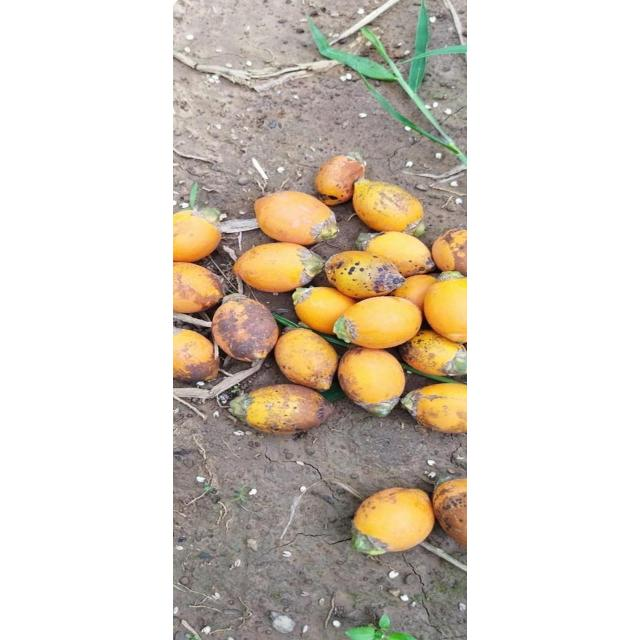good: (351, 487, 435, 555), (229, 385, 335, 435), (337, 346, 407, 414), (252, 192, 340, 246), (332, 296, 421, 348), (212, 295, 280, 363), (234, 243, 324, 293), (273, 328, 339, 390), (351, 179, 425, 233), (324, 251, 406, 299), (355, 232, 435, 278), (398, 328, 468, 378), (399, 382, 466, 434), (292, 286, 356, 336), (423, 275, 467, 343), (314, 154, 366, 206), (174, 262, 224, 314), (174, 326, 218, 384), (173, 212, 221, 262), (392, 274, 436, 312), (431, 472, 462, 492), (355, 232, 381, 250), (198, 207, 220, 223), (221, 292, 249, 304)
